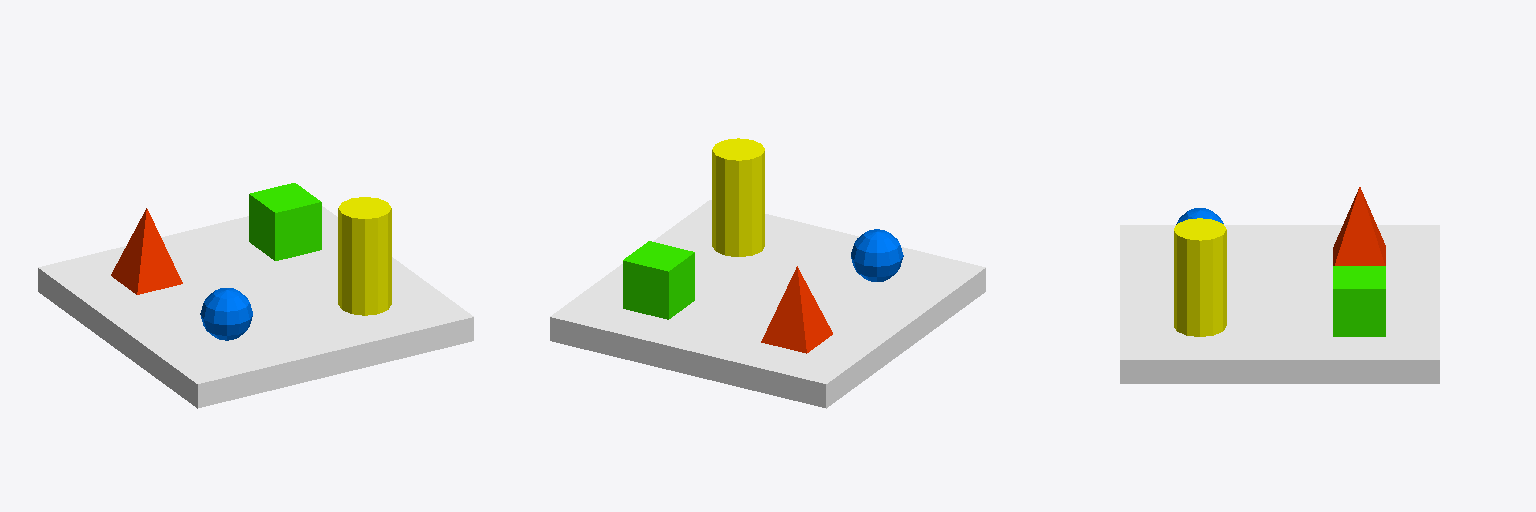
The model's file is Primitive.obj.
3 renders of one model, left to right at view 1: azimuth 30°, elevation 25°; view 2: azimuth 150°, elevation 25°; view 3: azimuth 270°, elevation 25°, orthographic.
Visible parts, largest first — view 1: the_scene/tri_660_geometry, the_scene/tri_624_geometry, the_scene/tri_294_geometry, the_scene/tri_0_geometry, the_scene/tri_246_geometry, the_scene/tri_228_geometry, the_scene/tri_66_geometry, the_scene/tri_342_geometry, the_scene/tri_378_geometry; view 2: the_scene/tri_660_geometry, the_scene/tri_624_geometry, the_scene/tri_294_geometry, the_scene/tri_378_geometry, the_scene/tri_246_geometry, the_scene/tri_606_geometry, the_scene/tri_162_geometry, the_scene/tri_342_geometry, the_scene/tri_0_geometry; view 3: the_scene/tri_660_geometry, the_scene/tri_246_geometry, the_scene/tri_624_geometry, the_scene/tri_228_geometry, the_scene/tri_606_geometry, the_scene/tri_342_geometry.
Part boxes in pixels (x1,y1,x2,y2): the_scene/tri_660_geometry: (38,206,473,408); the_scene/tri_624_geometry: (249,183,321,260); the_scene/tri_294_geometry: (338,208,390,315); the_scene/tri_0_geometry: (124,209,159,294); the_scene/tri_246_geometry: (344,197,391,313); the_scene/tri_228_geometry: (147,209,182,289); the_scene/tri_66_geometry: (204,294,249,324); the_scene/tri_342_geometry: (339,197,390,217); the_scene/tri_378_geometry: (111,208,146,284); the_scene/tri_660_geometry: (550,200,985,408); the_scene/tri_624_geometry: (623,241,694,319); the_scene/tri_294_geometry: (725,138,764,256); the_scene/tri_378_geometry: (784,267,819,353); the_scene/tri_246_geometry: (712,139,760,254); the_scene/tri_606_geometry: (761,267,796,347); the_scene/tri_162_geometry: (854,238,899,266); the_scene/tri_342_geometry: (712,140,764,160); the_scene/tri_0_geometry: (797,266,832,343); the_scene/tri_660_geometry: (1120,225,1439,383); the_scene/tri_246_geometry: (1174,224,1226,336); the_scene/tri_624_geometry: (1333,266,1385,336); the_scene/tri_228_geometry: (1333,187,1359,265); the_scene/tri_606_geometry: (1360,188,1385,265); the_scene/tri_342_geometry: (1187,218,1222,240).
Size of the model in its own units: 3.07 by 1.28 by 3.07.